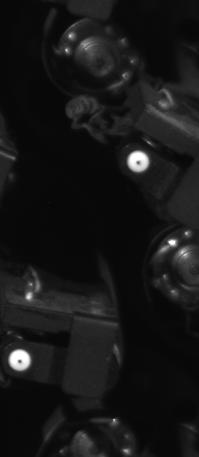fiber: (4, 343, 36, 376), (124, 146, 155, 176)
